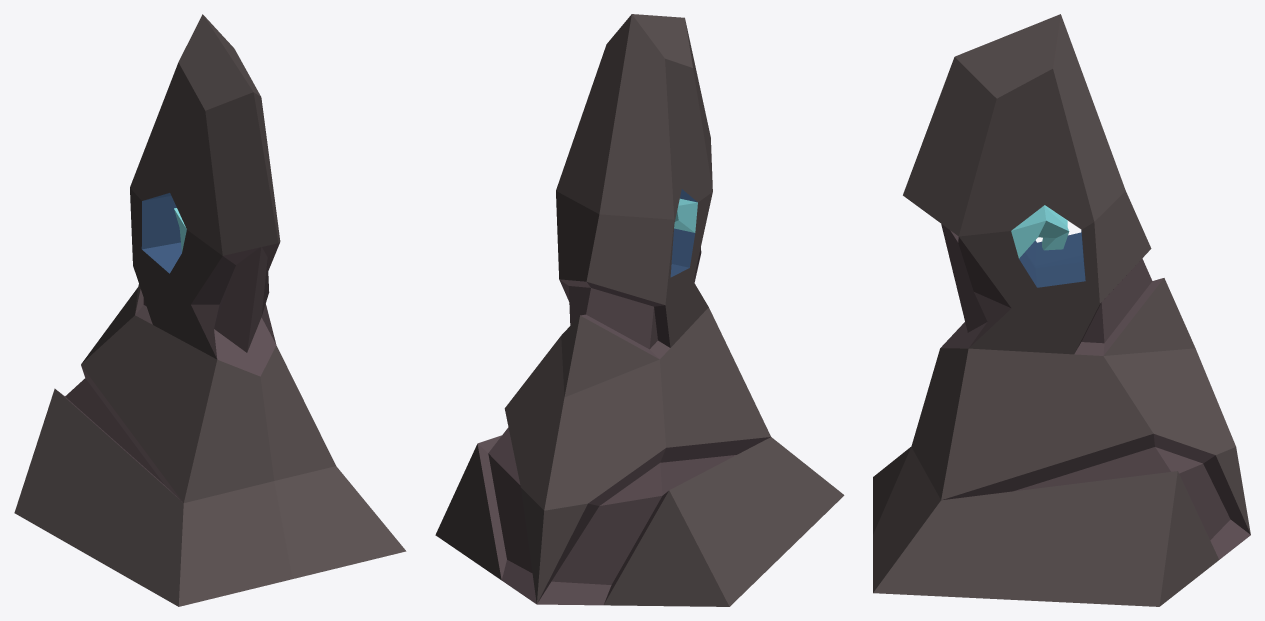
The model's file is Stone2.fbx.
3 views of the same model, side by side, from view 1: azimuth 30°, elevation 25°; view 2: azimuth 150°, elevation 25°; view 3: azimuth 270°, elevation 25° (orthographic). The views are drawn at different scales.
Visible parts, largest first — view 1: Stone2; view 2: Stone2; view 3: Stone2.
Part boxes in pixels (<box>): Stone2: <box>14,14,406,606</box>; Stone2: <box>435,14,844,606</box>; Stone2: <box>873,14,1250,606</box>.
Bounding box in the file's own units: 205 × 346 × 228.
